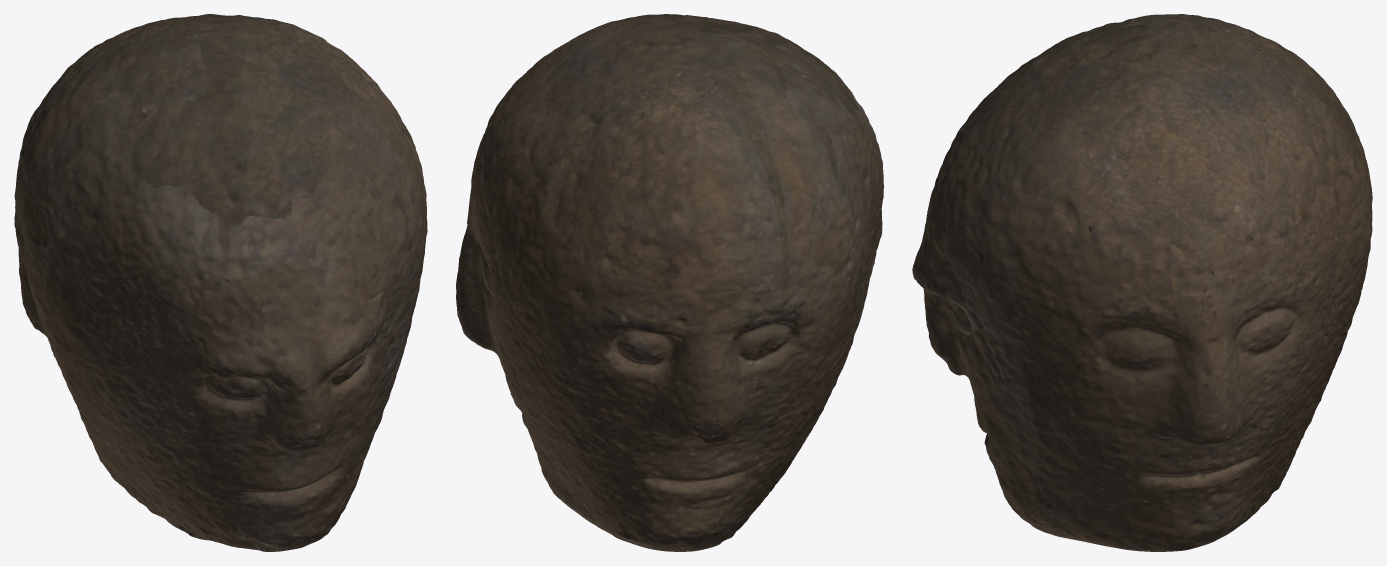
Rendered from corleck_co._cavan_nmi_1998-72_web_ar.glb.
3 renders of one model, left to right at view 1: azimuth 30°, elevation 25°; view 2: azimuth 150°, elevation 25°; view 3: azimuth 270°, elevation 25°, orthographic. The views are drawn at different scales.
Visible parts, largest first — view 1: Object_5, Object_3, Object_4, Object_2, Object_6; view 2: Object_2, Object_4, Object_5, Object_6, Object_3; view 3: Object_3, Object_5, Object_4, Object_6, Object_2.
Part boxes in pixels (box(x1,y1,x2,y2)): Object_5: box(30, 14, 402, 547); Object_3: box(170, 105, 427, 543); Object_4: box(74, 63, 353, 549); Object_2: box(14, 32, 427, 551); Object_6: box(108, 14, 403, 471); Object_2: box(552, 80, 867, 551); Object_4: box(456, 90, 883, 528); Object_5: box(456, 14, 883, 536); Object_6: box(492, 15, 861, 142); Object_3: box(456, 62, 785, 467); Object_3: box(912, 116, 1360, 546); Object_5: box(970, 14, 1349, 530); Object_4: box(981, 69, 1372, 531); Object_6: box(918, 14, 1312, 485); Object_2: box(1006, 18, 1358, 551).
Bounding box in the file's own units: 250 × 323 × 274.
1 material, 1 textured.
